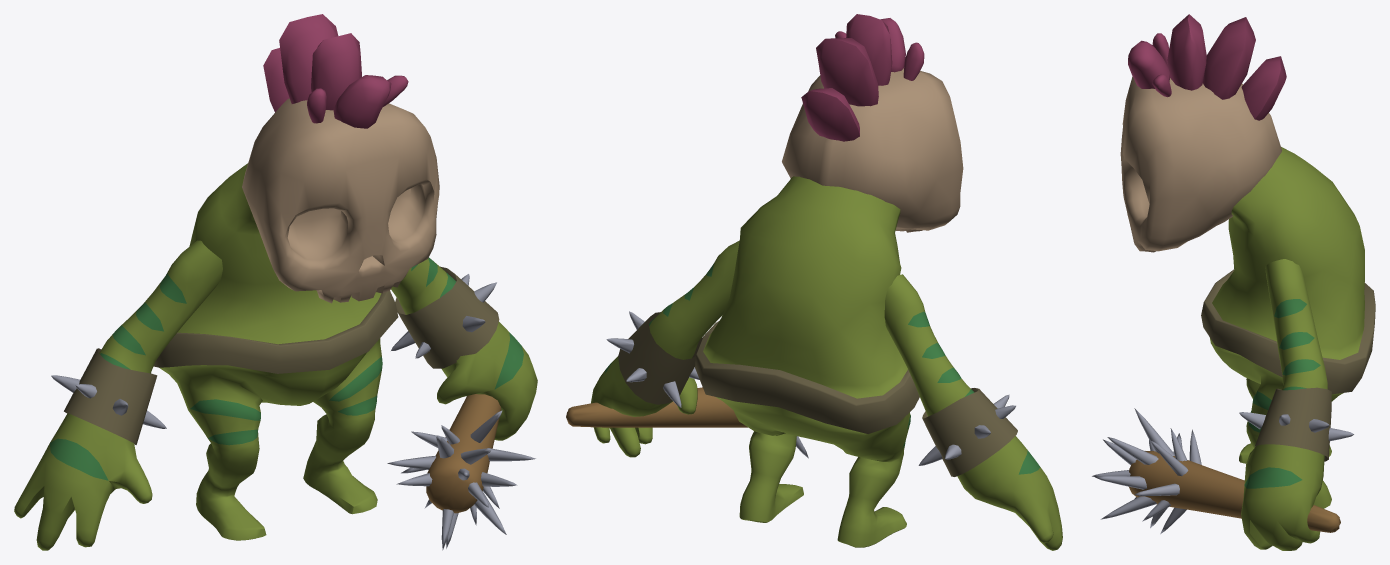
File: Orc_Skull.obj
The picture shows the model from 3 angles, left to right: view 1: azimuth 30°, elevation 25°; view 2: azimuth 150°, elevation 25°; view 3: azimuth 270°, elevation 25°; orthographic projection. The views are drawn at different scales.
Visible parts, largest first — view 1: Orc_Skull_Cube.038, Orc_Weapon_Cylinder.004; view 2: Orc_Skull_Cube.038, Orc_Weapon_Cylinder.004; view 3: Orc_Skull_Cube.038, Orc_Weapon_Cylinder.004.
Part boxes in pixels (x1=…): Orc_Skull_Cube.038: x1=14, y1=14, x2=537, y2=550; Orc_Weapon_Cylinder.004: x1=387, y1=394, x2=535, y2=550; Orc_Skull_Cube.038: x1=591, y1=14, x2=1062, y2=550; Orc_Weapon_Cylinder.004: x1=566, y1=387, x2=808, y2=458; Orc_Skull_Cube.038: x1=1120, y1=14, x2=1375, y2=550; Orc_Weapon_Cylinder.004: x1=1092, y1=408, x2=1340, y2=534.
Size of the model in its own units: 3.22 by 3.12 by 1.71.
